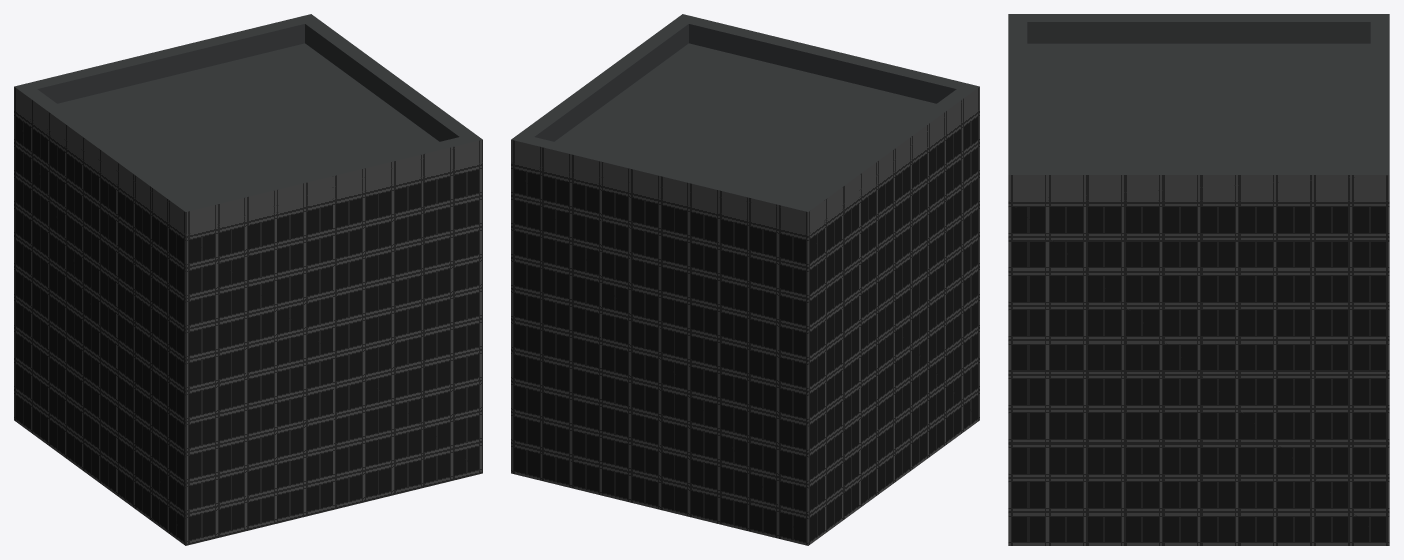
File: building4.fbx
3 views of the same model, side by side, from view 1: azimuth 30°, elevation 25°; view 2: azimuth 150°, elevation 25°; view 3: azimuth 270°, elevation 25° (orthographic). The views are drawn at different scales.
Visible parts, largest first — view 1: Cube; view 2: Cube; view 3: Cube.
Boxes of the visible parts, x1,y1,x2,y2 form: Cube: (14, 14, 482, 545); Cube: (511, 14, 979, 545); Cube: (1008, 14, 1389, 545).
Bounding box in the file's own units: 2000 × 2146 × 2000.
